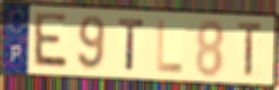8: (194, 17, 228, 80)
9: (75, 14, 107, 73)
E: (30, 11, 70, 72)
L: (155, 18, 185, 75)
T: (235, 19, 266, 81), (116, 16, 147, 73)
